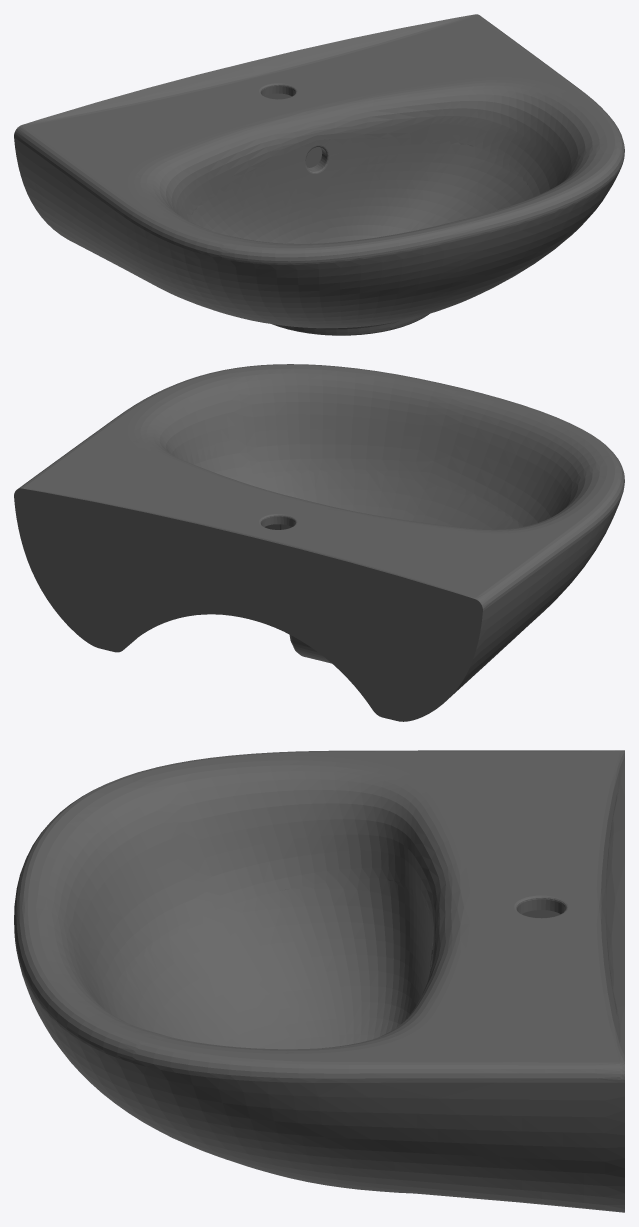
File: AEC_49204.glb
3 views of the same model, one above another, from view 1: azimuth 30°, elevation 25°; view 2: azimuth 150°, elevation 25°; view 3: azimuth 270°, elevation 25° (orthographic). The views are drawn at different scales.
Visible parts, largest first — view 1: 0; view 2: 0; view 3: 0.
Boxes of the visible parts, bbox=[...] form: 0: bbox=[14, 14, 624, 335]; 0: bbox=[14, 364, 624, 721]; 0: bbox=[14, 750, 624, 1212].
Bounding box in the file's own units: 0.5 × 0.19 × 0.4.
1 material, 1 textured.
